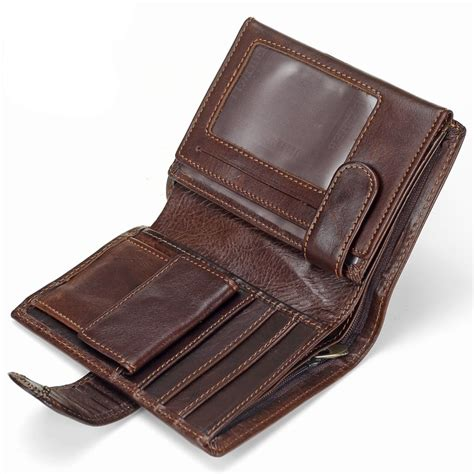cuero: (8, 15, 467, 460)
